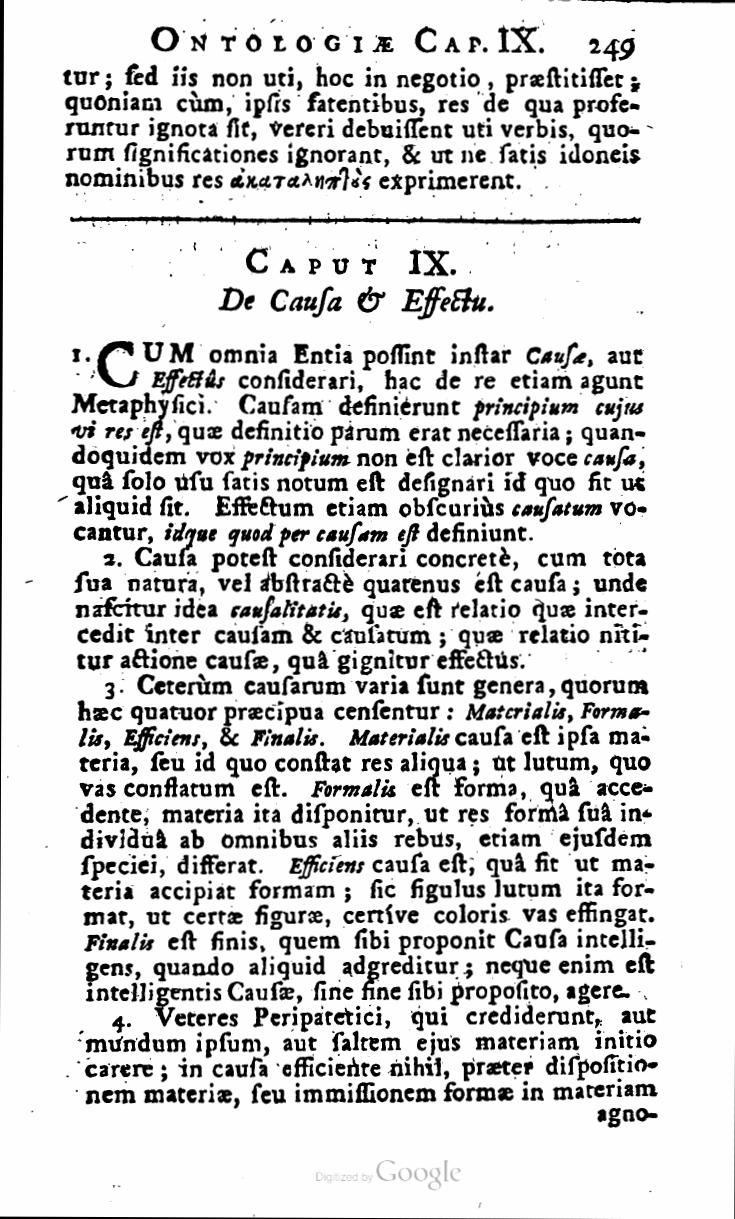bottom_p: (60, 65, 648, 195)
catchword: (595, 1102, 657, 1128)
full_p: (77, 677, 658, 1003), (70, 338, 653, 545), (70, 547, 652, 675), (218, 283, 495, 318), (243, 240, 462, 282)
header: (147, 17, 548, 58)
initial_l: (93, 338, 140, 390)
page_num: (582, 28, 643, 63)
top_p: (83, 1005, 662, 1108)
